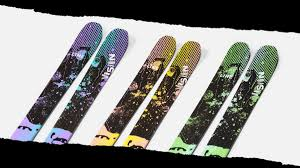skis: (7, 21, 130, 145), (87, 33, 204, 149), (167, 42, 280, 156)
